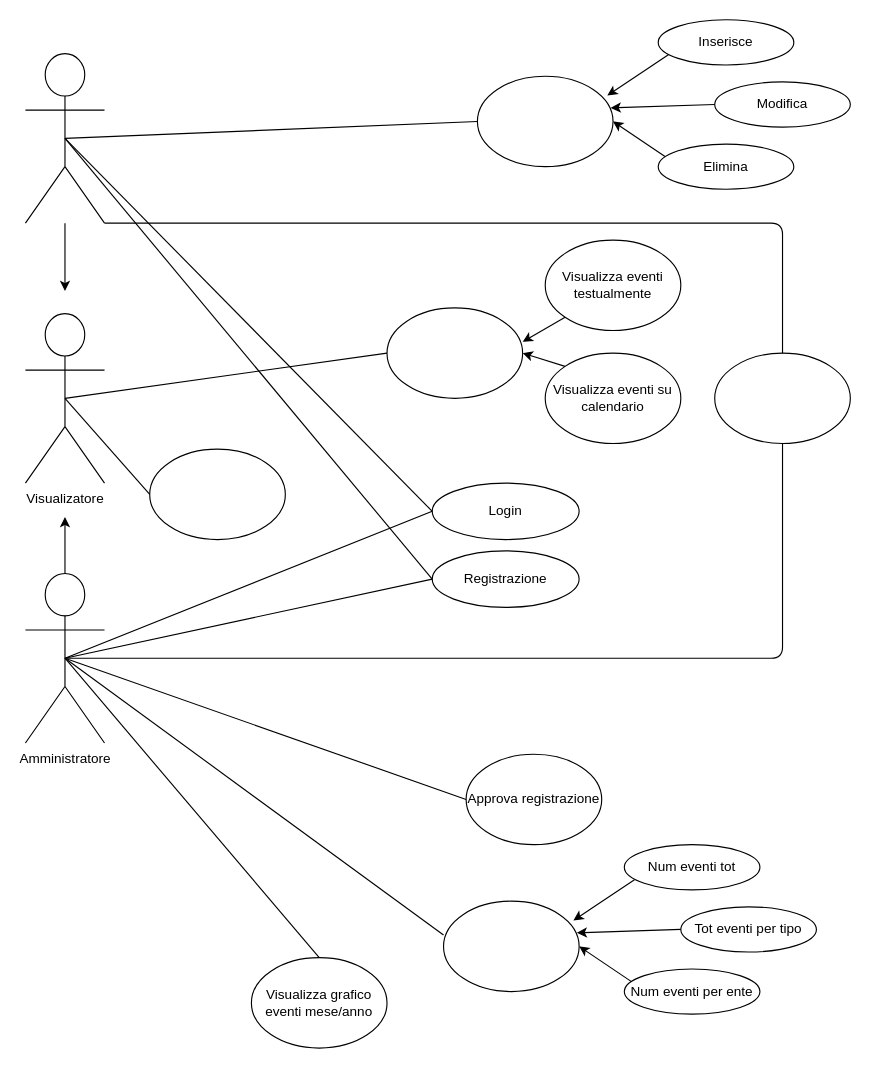
Some shapes in this 870 by 1068 pixel diagram are drawn without their labels. The centre of each missing label's shape, as x and y in pixels:
"Dispone le statistiche" goes at [510,946].
"Ente" goes at [64,138].
"Gestisce i propri eventi" goes at [544,121].
"Ricerca eventi" goes at [454,352].
"Stampa eventi" goes at [782,398].
"Stampa ricerca eventi" goes at [217,494].
